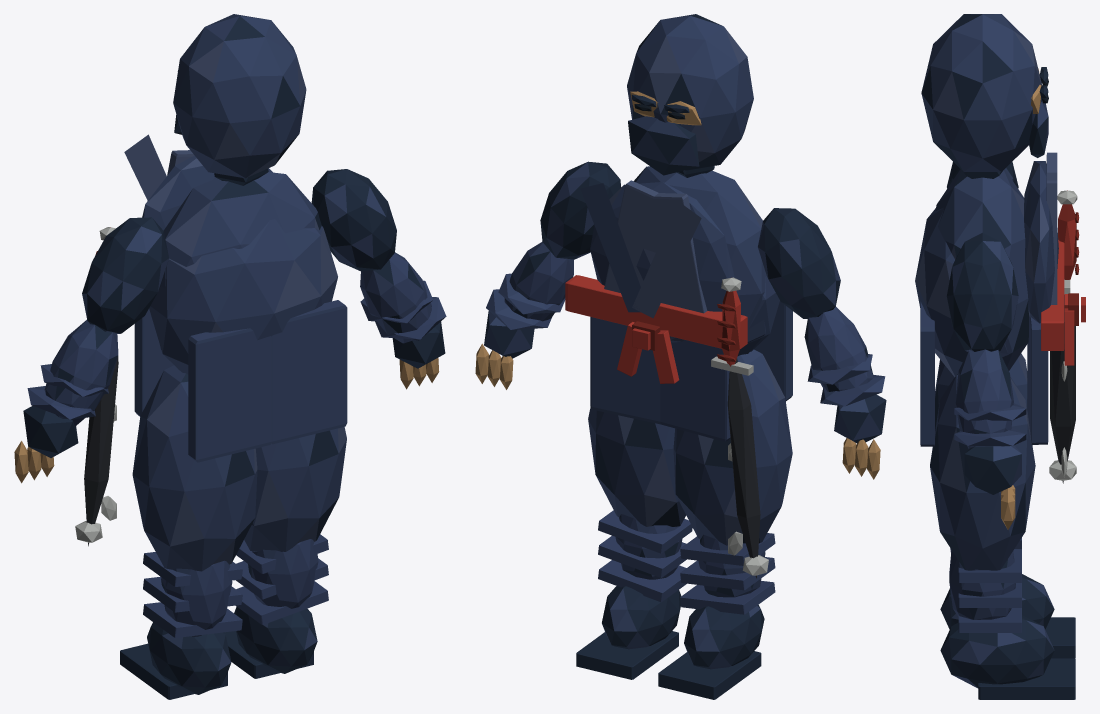
3 views of the same model, side by side, from view 1: azimuth 30°, elevation 25°; view 2: azimuth 150°, elevation 25°; view 3: azimuth 270°, elevation 25° (orthographic). The views are drawn at different scales.
Bounding box in the file's own units: 1.13 × 1.7 × 0.404.
